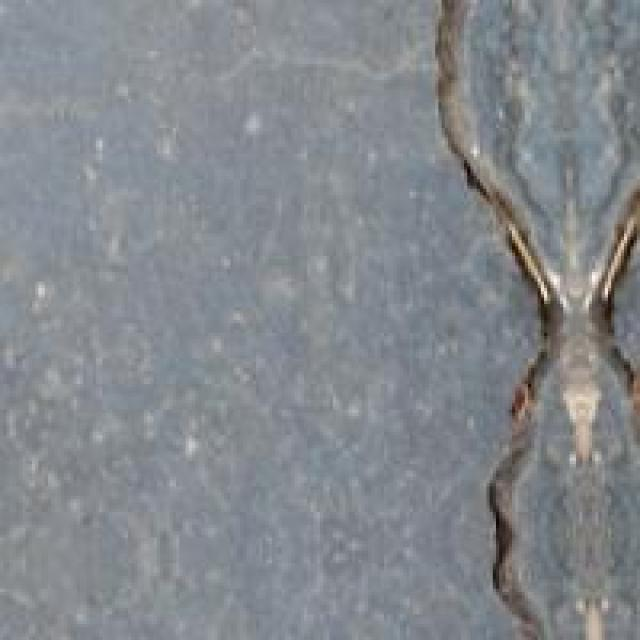SurfaceCrack: (578, 158, 640, 406)
